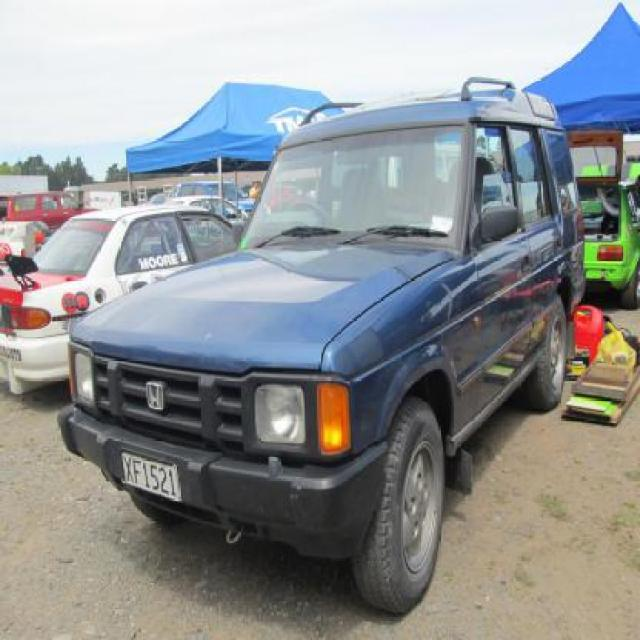License-Plates: (116, 443, 188, 507)
